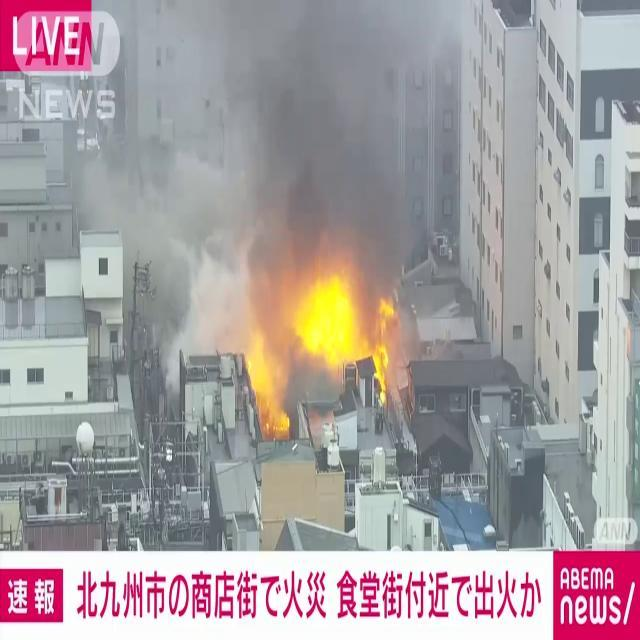Fire: (294, 260, 401, 386), (240, 326, 290, 436)
Smoke: (169, 1, 457, 308)
